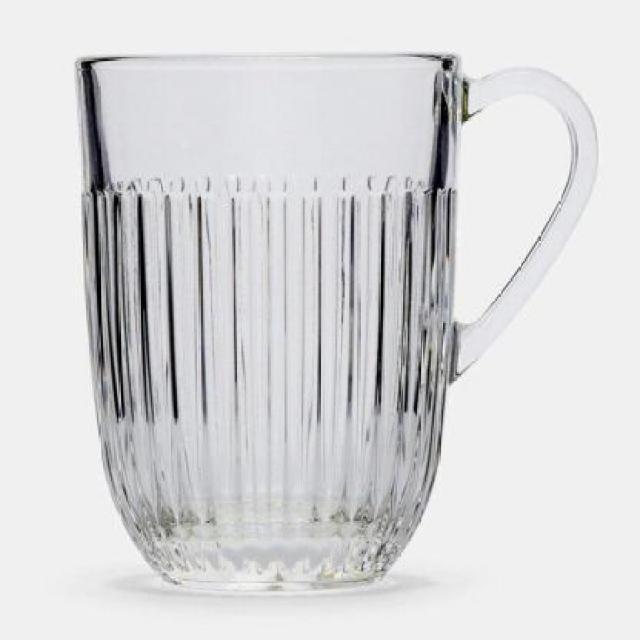taza: (72, 50, 602, 598)
